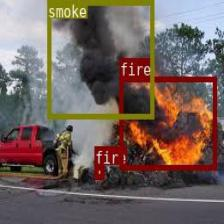fire: (119, 76, 216, 169), (94, 164, 104, 178)
smoke: (46, 0, 153, 118)
